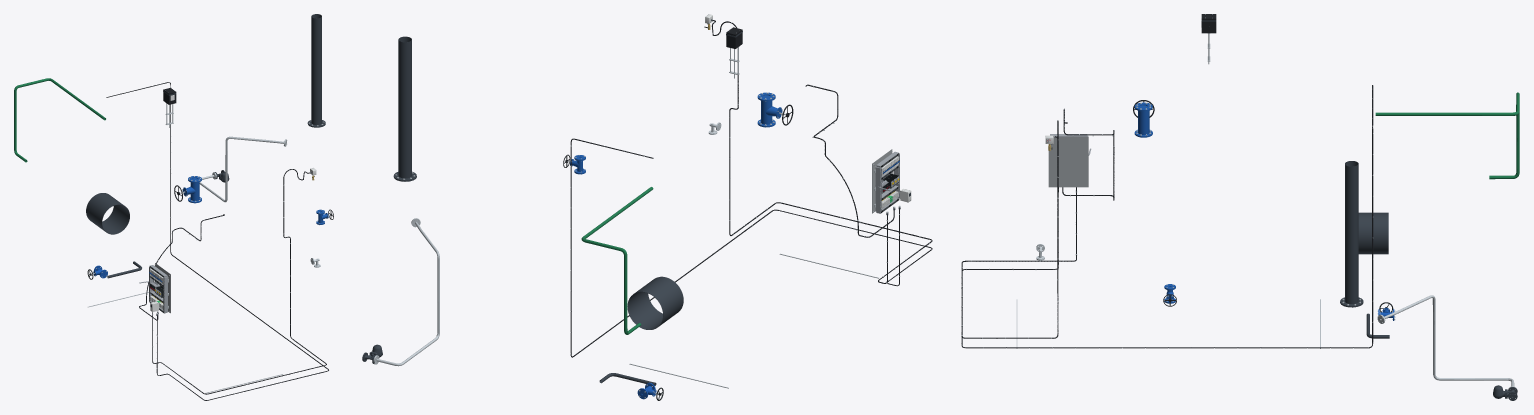
3 renders of one model, left to right at view 1: azimuth 30°, elevation 25°; view 2: azimuth 150°, elevation 25°; view 3: azimuth 270°, elevation 25°, orthographic. The views are drawn at different scales.
Visible parts, largest first — view 1: bdv_vent / dark, flue_spacer / dark, cabinet_interior / cabinet_interior_0.npz, mod_direct_drive_cable / black, wiring_pressure_switch_2 / black, from_economizer / green, trap_gap_to_bdv / steel, steam_manual / blue; view 2: bdv_vent / dark, flue_spacer / dark, cabinet_interior / cabinet_interior_0.npz, mod_direct_drive_cable / black, wiring_pressure_switch_2 / black, from_economizer / green, trap_gap_to_bdv / steel, steam_manual / blue; view 3: cabinet_interior / cabinet_interior_0.npz, bdv_vent / dark, mod_direct_drive_cable / black, flue_spacer / dark, wiring_pressure_switch_2 / black, from_economizer / green, trap_gap_to_bdv / steel, steam_manual / blue.
Part boxes in pixels (bbox=[...]): bdv_vent / dark: bbox=[307, 14, 325, 127]; flue_spacer / dark: bbox=[86, 193, 129, 234]; cabinet_interior / cabinet_interior_0.npz: bbox=[139, 263, 170, 313]; mod_direct_drive_cable / black: bbox=[106, 82, 328, 400]; wiring_pressure_switch_2 / black: bbox=[152, 169, 326, 394]; from_economizer / green: bbox=[14, 78, 105, 162]; trap_gap_to_bdv / steel: bbox=[199, 136, 287, 202]; steam_manual / blue: bbox=[182, 176, 201, 203]; bdv_vent / dark: bbox=[393, 36, 416, 181]; flue_spacer / dark: bbox=[627, 276, 683, 329]; cabinet_interior / cabinet_interior_0.npz: bbox=[872, 149, 899, 213]; mod_direct_drive_cable / black: bbox=[570, 138, 932, 357]; wiring_pressure_switch_2 / black: bbox=[711, 20, 932, 283]; from_economizer / green: bbox=[581, 187, 653, 334]; trap_gap_to_bdv / steel: bbox=[373, 218, 439, 366]; steam_manual / blue: bbox=[757, 92, 782, 127]; cabinet_interior / cabinet_interior_0.npz: bbox=[1048, 134, 1091, 187]; bdv_vent / dark: bbox=[1340, 161, 1363, 307]; mod_direct_drive_cable / black: bbox=[961, 85, 1373, 348]; flue_spacer / dark: bbox=[1358, 212, 1388, 254]; wiring_pressure_switch_2 / black: bbox=[961, 120, 1076, 338]; from_economizer / green: bbox=[1375, 92, 1519, 179]; trap_gap_to_bdv / steel: bbox=[1377, 295, 1517, 394]; steam_manual / blue: bbox=[1134, 102, 1152, 137].
Bounding box in the file's own units: 5.2 × 4.12 × 6.76.
